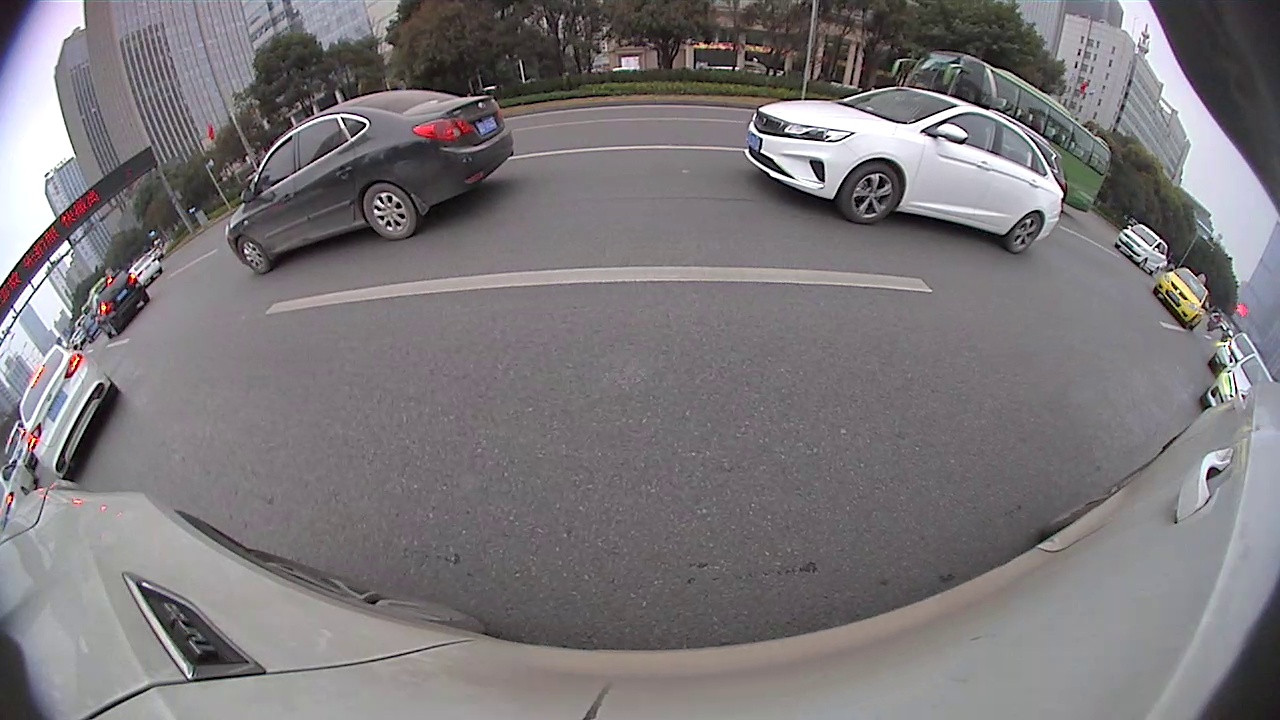bus: (890, 45, 1114, 219)
car: (224, 86, 516, 276), (745, 86, 1066, 256), (18, 340, 122, 484), (1200, 345, 1267, 412), (1150, 263, 1213, 333), (93, 267, 152, 335), (1112, 222, 1170, 274)
front: (840, 162, 902, 223), (238, 236, 272, 275)
rear: (362, 183, 419, 240), (1004, 213, 1043, 255)
